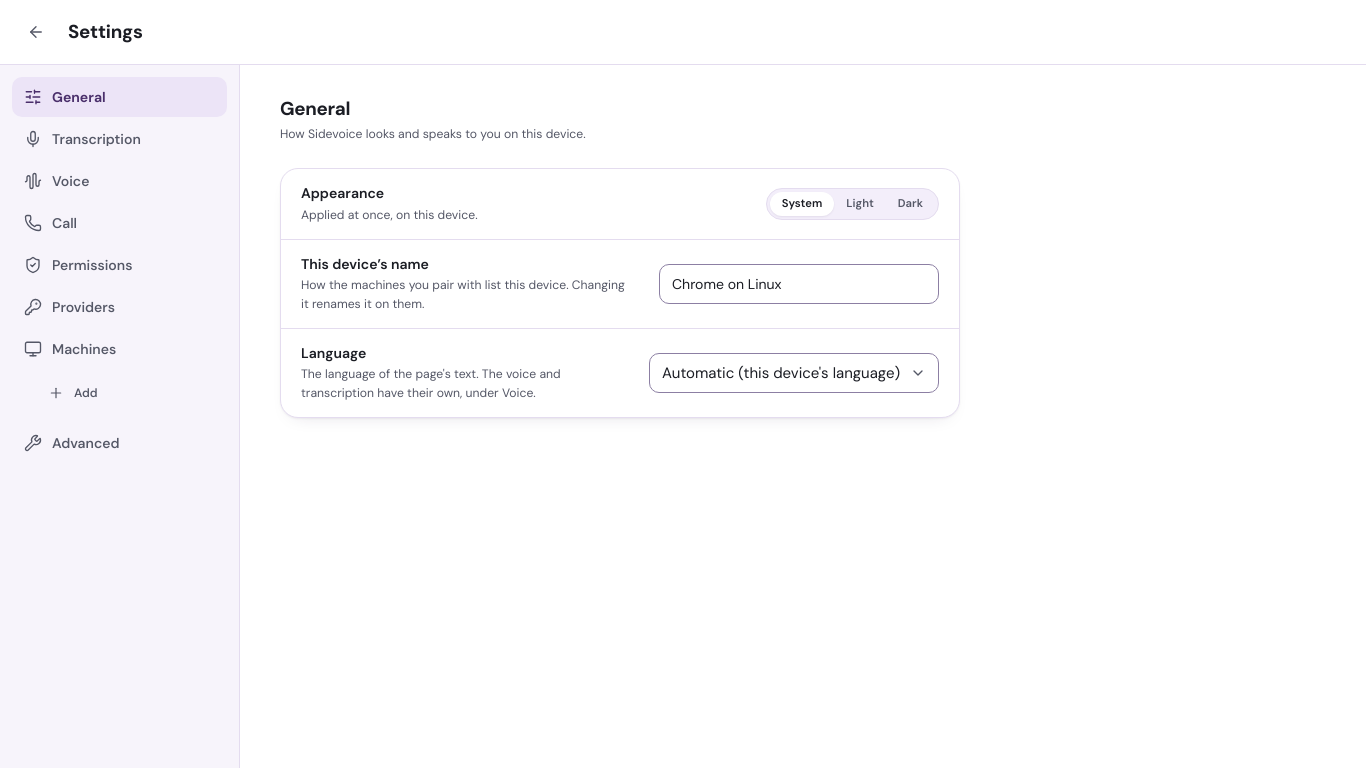
Test: where the engine can't delete models, they are listed without Delete, and it says so
Click the button with id "settings-advanced": (120, 443) [12,423,227,463]
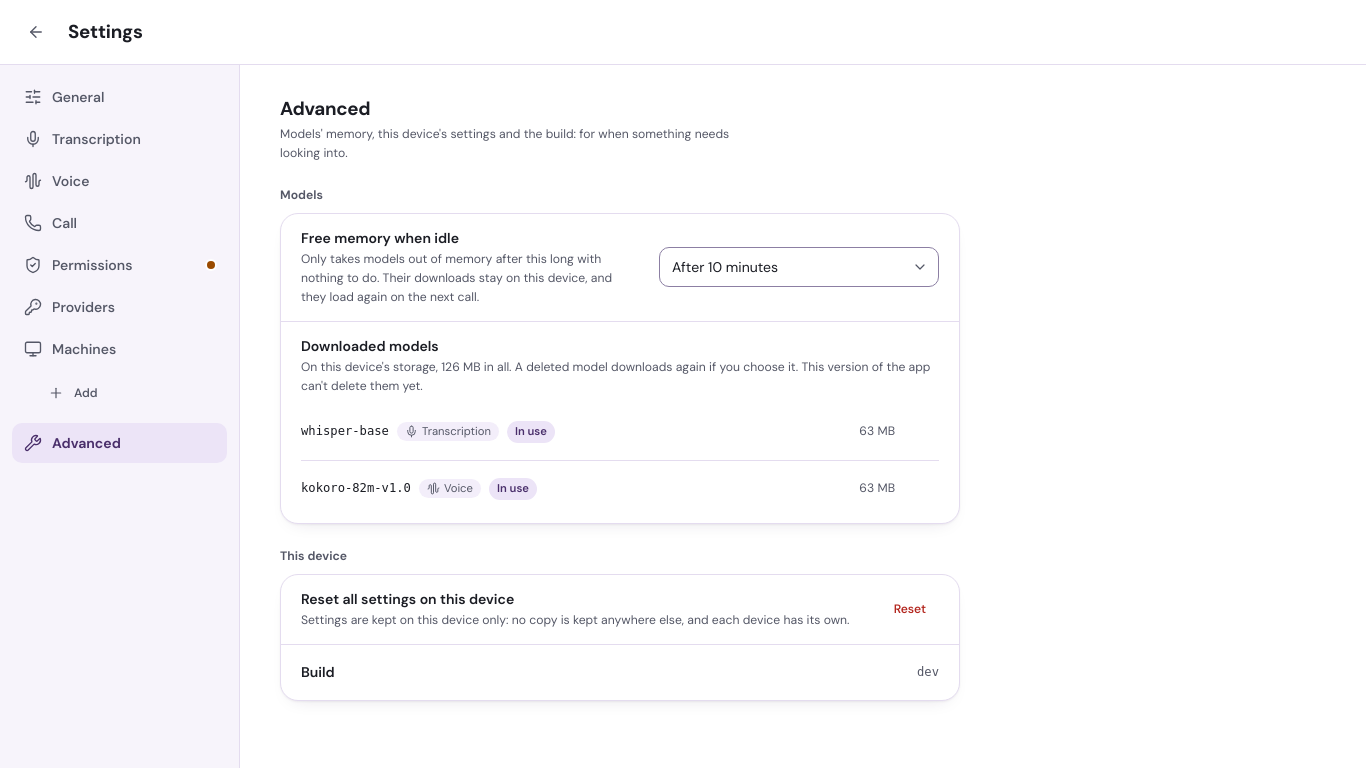
Now the number of elements with class "downloaded-model" is 2, box [301,421,895,443]; [301,460,939,509]
Now the element that starts with "Advanced" shows "This version of the app can't delete them yet.", box [301,359,930,394]
